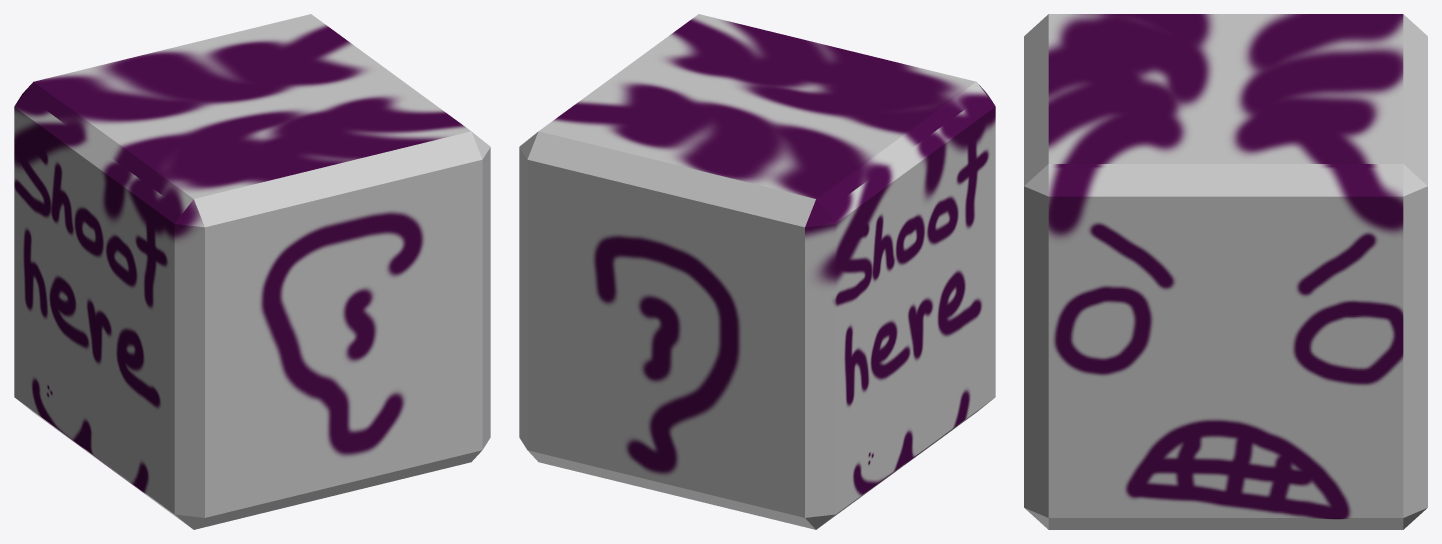
Rendered from shite_drone.glb.
3 renders of one model, left to right at view 1: azimuth 30°, elevation 25°; view 2: azimuth 150°, elevation 25°; view 3: azimuth 270°, elevation 25°, orthographic. The views are drawn at different scales.
Parts seen in each view (by area): view 1: Cube; view 2: Cube; view 3: Cube.
Part boxes in pixels (x1=…): Cube: x1=14, y1=14, x2=490, y2=529; Cube: x1=519, y1=14, x2=995, y2=529; Cube: x1=1024, y1=14, x2=1427, y2=529.
Size of the model in its own units: 2 by 2 by 2.
Materials: 1 (1 with a texture image).
